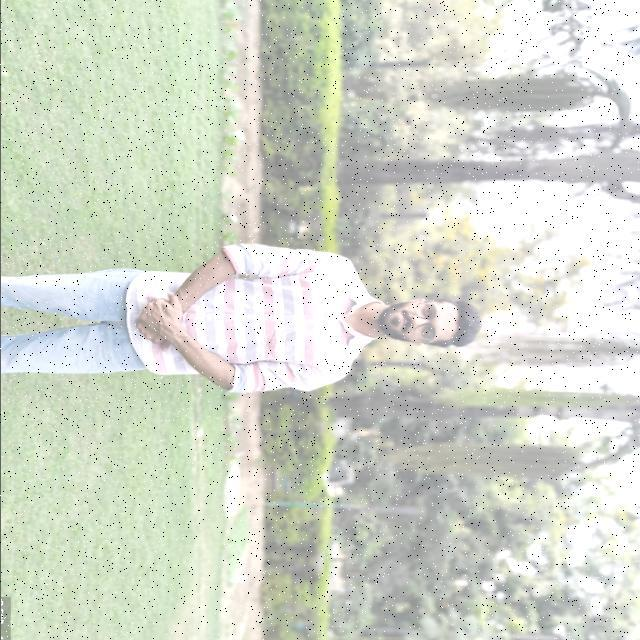face_no_mask: (381, 297, 461, 348)
